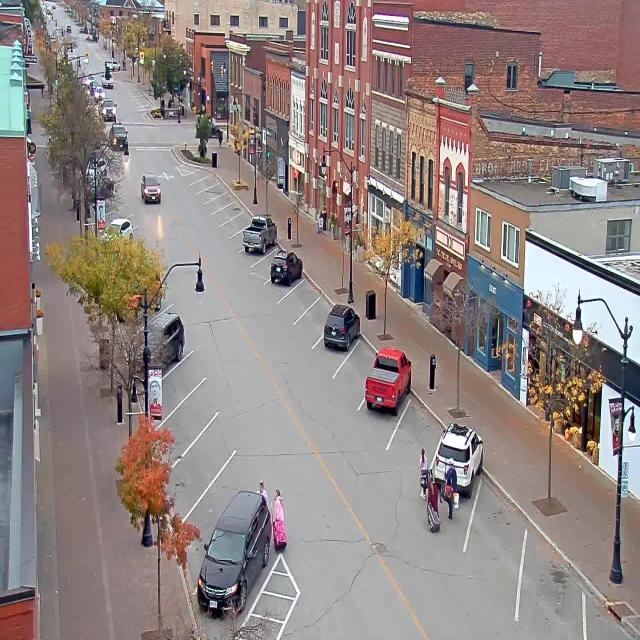available: (464, 455, 541, 581), (516, 517, 588, 629), (396, 383, 459, 471), (200, 445, 263, 520), (182, 417, 242, 490), (173, 371, 231, 441), (157, 332, 208, 403), (581, 582, 640, 640), (347, 318, 385, 382), (310, 279, 339, 329), (288, 258, 316, 302), (264, 229, 286, 259), (227, 194, 246, 221), (237, 205, 256, 231), (213, 174, 230, 202), (221, 184, 237, 210), (194, 160, 210, 184), (208, 166, 222, 191)
occupied: (196, 489, 272, 617), (429, 421, 484, 498), (364, 346, 412, 414), (142, 309, 185, 364), (323, 303, 360, 351), (242, 214, 277, 254), (270, 248, 303, 286)
